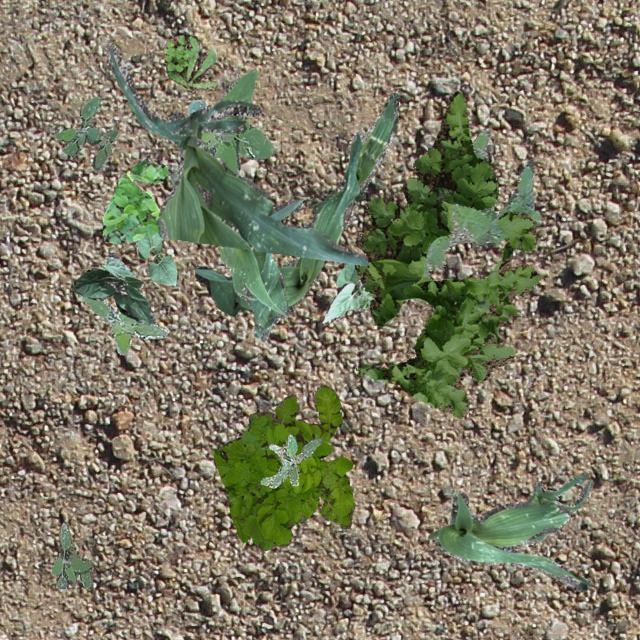crop: (105, 44, 368, 264), (194, 92, 398, 316), (170, 172, 288, 340), (426, 490, 594, 590), (72, 253, 154, 324), (524, 472, 592, 542), (320, 262, 376, 324), (136, 232, 176, 286)
weed: (353, 90, 538, 418), (212, 384, 354, 550), (420, 128, 540, 276), (188, 68, 274, 174), (101, 154, 168, 242), (77, 292, 167, 353), (54, 96, 118, 170), (260, 432, 320, 487), (162, 34, 216, 90), (50, 522, 91, 588)
